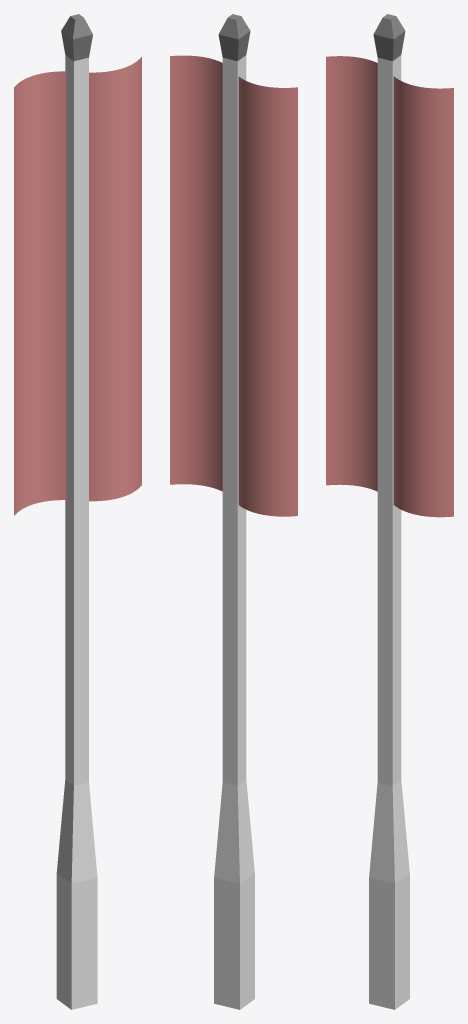
The model's file is flagRed.glb.
The picture shows the model from 3 angles, left to right: view 1: azimuth 30°, elevation 25°; view 2: azimuth 150°, elevation 25°; view 3: azimuth 330°, elevation 25°; orthographic projection.
Parts seen in each view (by area): view 1: flagRed, flagRed.001; view 2: flagRed, flagRed.001; view 3: flagRed, flagRed.001.
Boxes of the visible parts, x1,y1,x2,y2 form: flagRed: (14, 57, 141, 515); flagRed.001: (56, 14, 97, 1009); flagRed: (170, 55, 297, 516); flagRed.001: (214, 14, 254, 1009); flagRed: (326, 56, 453, 517); flagRed.001: (369, 14, 409, 1009).
Bounding box in the file's own units: 0.85 × 6.25 × 0.176.
